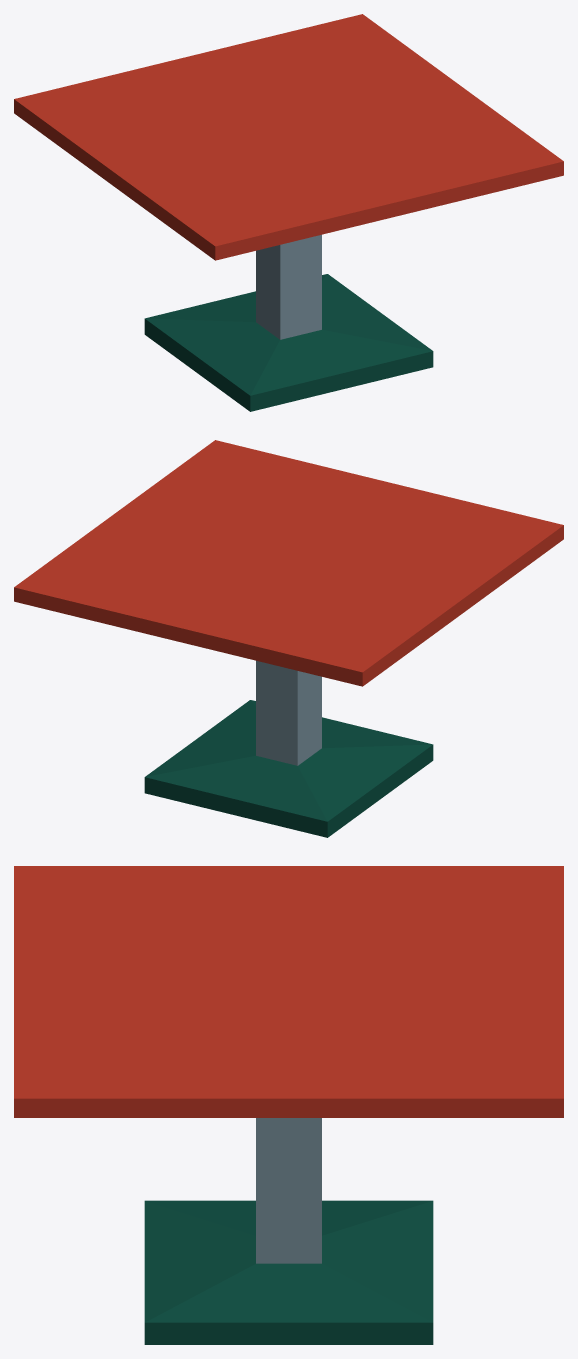
File: bar_table.fbx
3 renders of one model, top to bottom at view 1: azimuth 30°, elevation 25°; view 2: azimuth 150°, elevation 25°; view 3: azimuth 270°, elevation 25°, orthographic. The views are drawn at different scales.
Parts seen in each view (by area): view 1: polySurface169; view 2: polySurface169; view 3: polySurface169.
Boxes of the visible parts, box(x1,y1,x2,y2) form: polySurface169: box(14, 14, 563, 411); polySurface169: box(14, 440, 563, 837); polySurface169: box(14, 866, 563, 1344).
Bounding box in the file's own units: 3.1 × 1.87 × 3.1.
